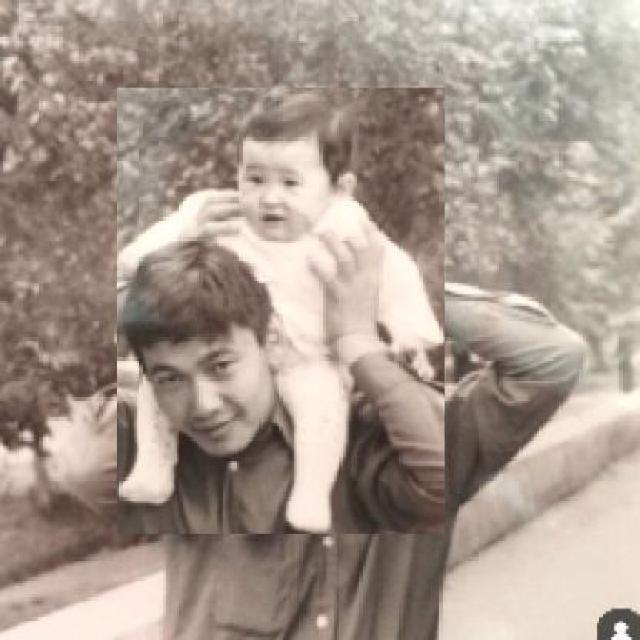child: (116, 88, 444, 535)
